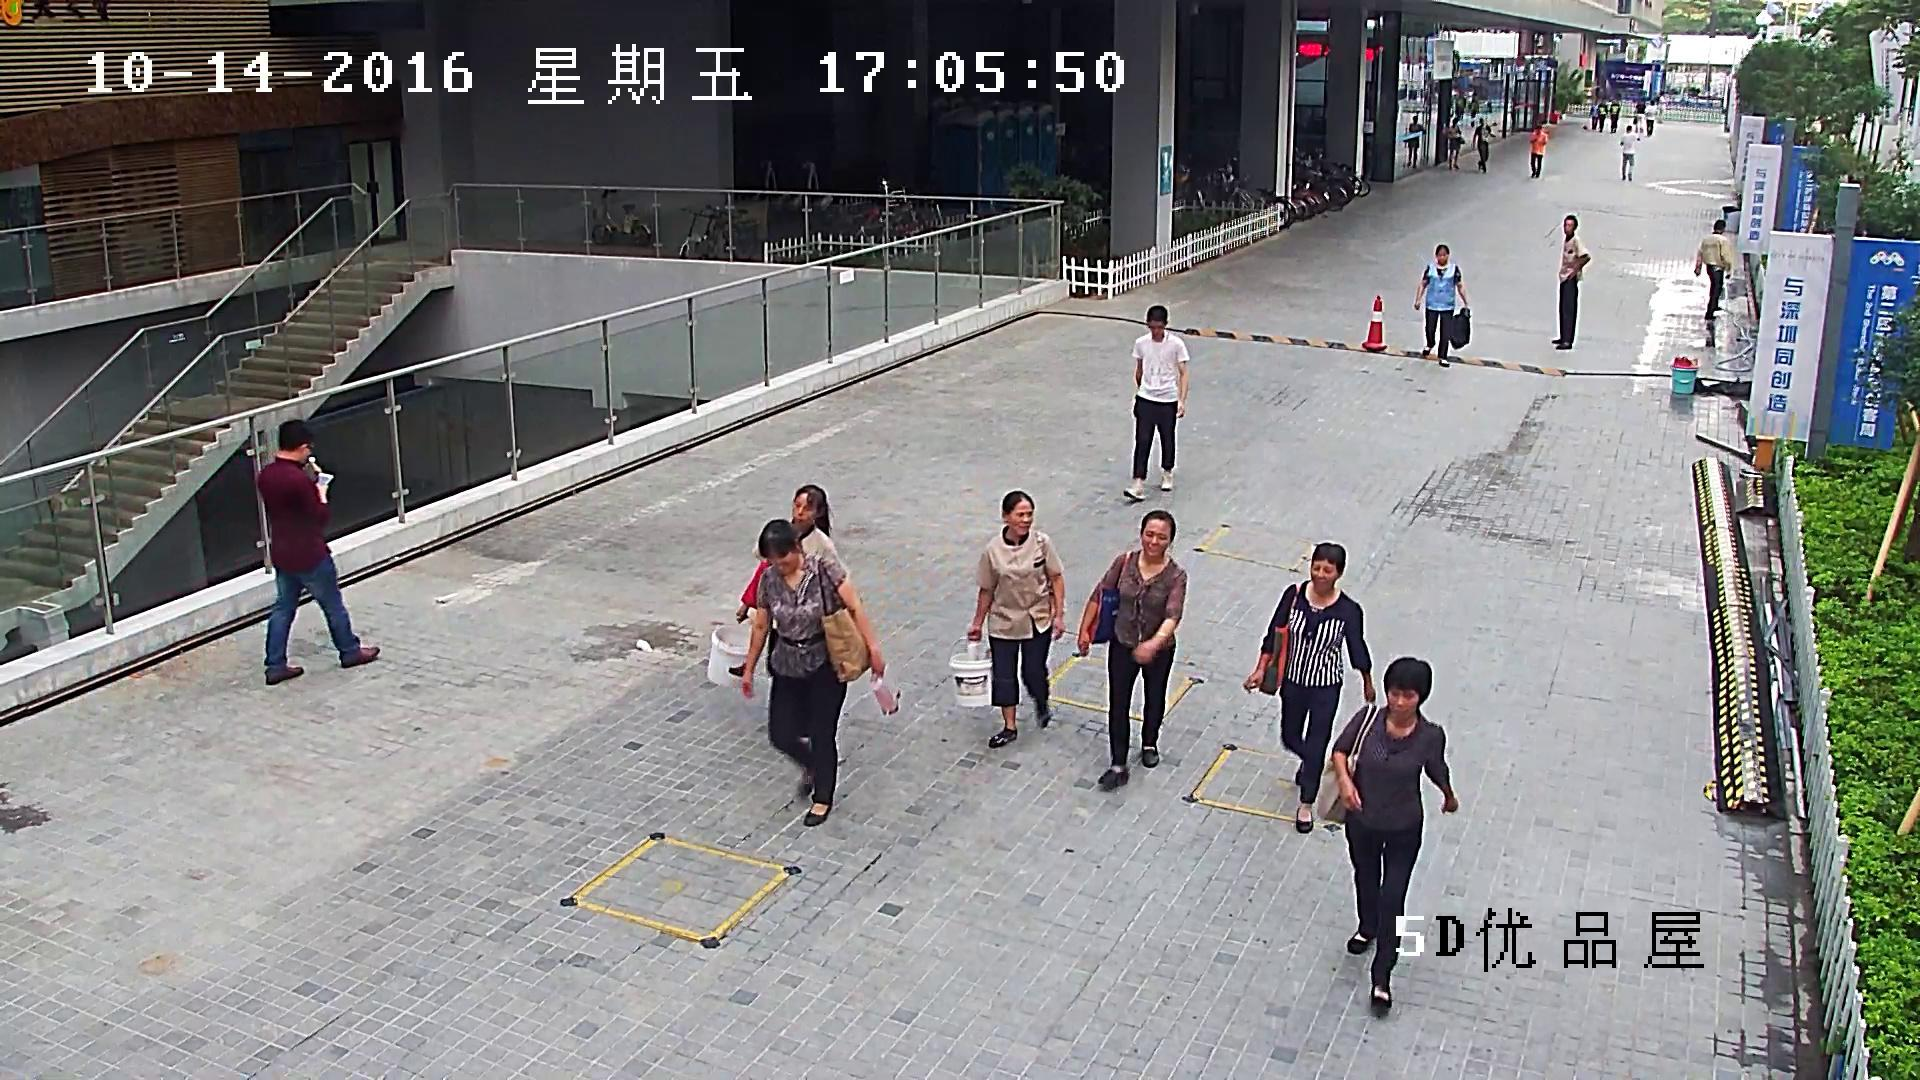person: (1315, 655, 1457, 1018), (739, 519, 902, 828), (1243, 542, 1375, 832), (257, 419, 377, 684), (1078, 511, 1187, 790), (948, 492, 1064, 748), (708, 485, 846, 688), (966, 492, 1064, 749), (736, 485, 846, 617), (1123, 308, 1189, 499), (1416, 245, 1470, 366), (1552, 215, 1590, 350), (1694, 220, 1731, 320), (1471, 118, 1495, 173), (1529, 125, 1548, 179), (1621, 125, 1639, 182), (1406, 116, 1424, 169), (1448, 116, 1464, 171), (1633, 98, 1646, 132), (1644, 101, 1656, 137), (1610, 99, 1621, 134), (1455, 91, 1465, 119), (1588, 104, 1598, 131), (1658, 90, 1666, 124), (1598, 103, 1606, 133)
